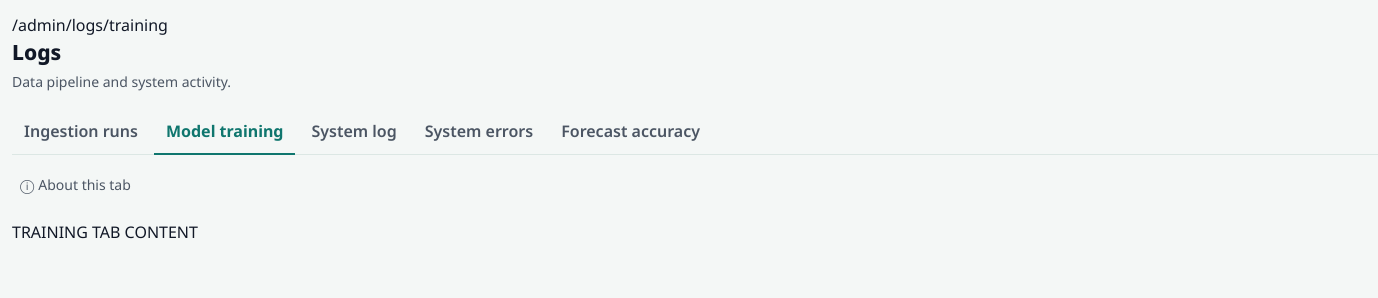
it: Logs tab explainers — tooltip + mobile ⓘ toggle › the ⓘ toggle reveals the ACTIVE tab's explainer and collapses on tab change
Click the button "ⓘ About this tab": (75, 185) [12, 163, 139, 207]
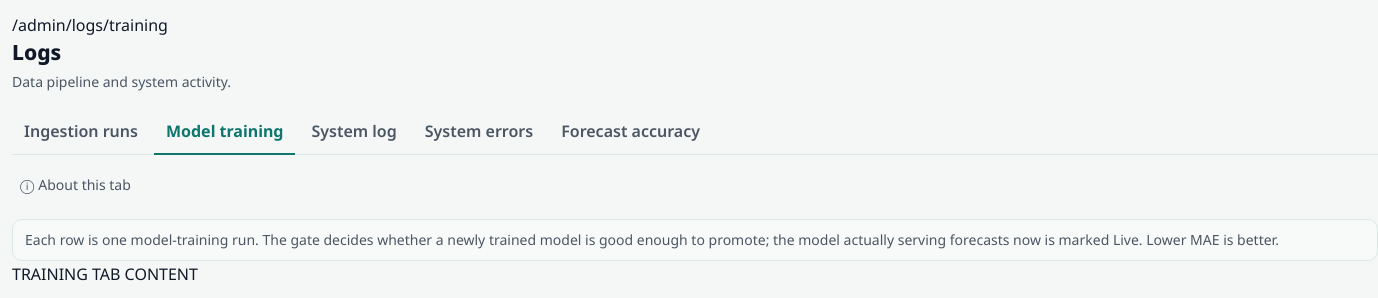
Check: the text "Each row is one model-training run. The gate decides whether a newly trained model is good enough to promote; the model actually serving forecasts now is marked" is shown, box [25, 230, 1279, 249]
Click the tab "System errors": (479, 131) [425, 120, 533, 142]
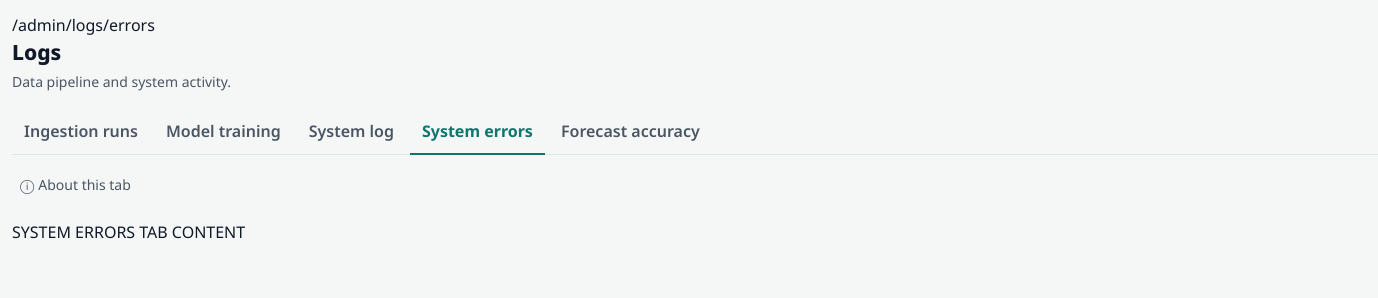
Check: the text with test id "pathname" reads "/admin/logs/errors", box [12, 14, 155, 36]
